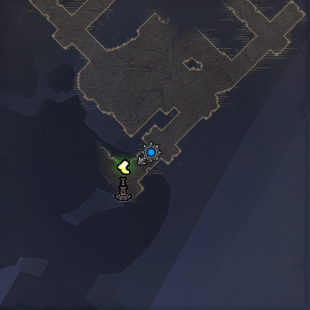SpeedPylon: (116, 157, 132, 202)
